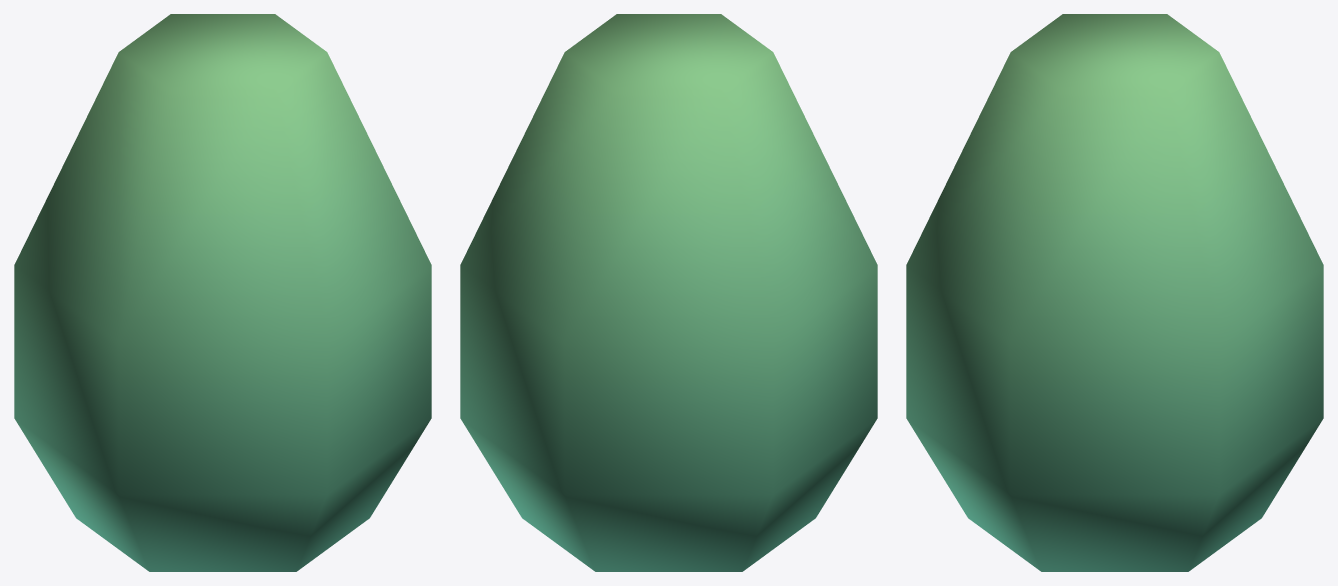
The model's file is avocado.glb.
The picture shows the model from 3 angles, left to right: view 1: azimuth 30°, elevation 25°; view 2: azimuth 150°, elevation 25°; view 3: azimuth 270°, elevation 25°; orthographic projection.
Visible parts, largest first — view 1: avocado; view 2: avocado; view 3: avocado.
Boxes of the visible parts, box(x1,y1,x2,y2) form: avocado: box(14, 14, 431, 571); avocado: box(460, 14, 877, 571); avocado: box(906, 14, 1323, 571).
Bounding box in the file's own units: 0.1502 × 0.2137 × 0.1734.
1 material, 1 textured.
